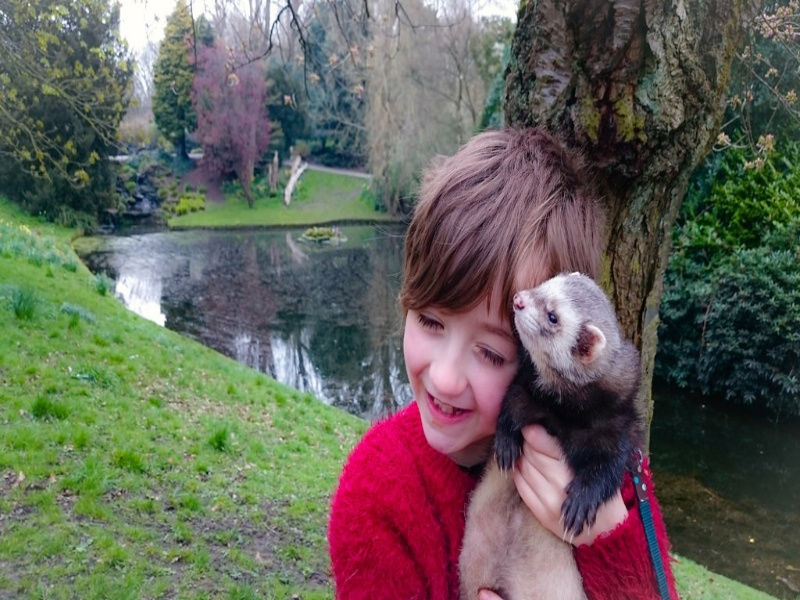human face: (401, 243, 534, 461)
minkish: (508, 280, 643, 518)
